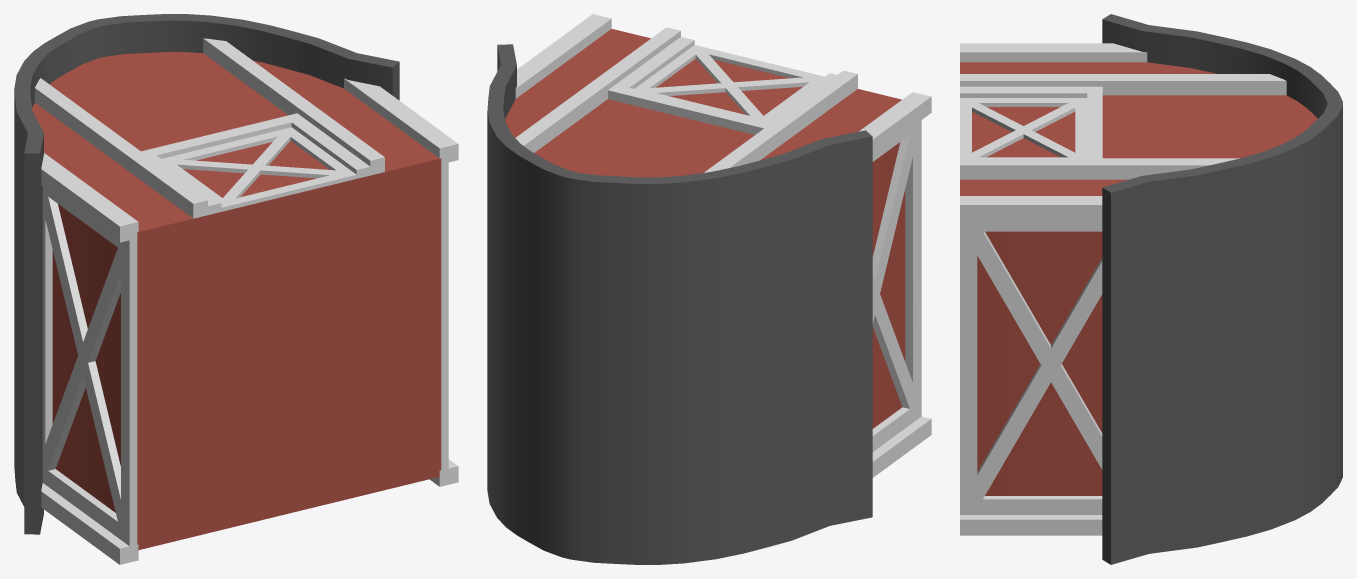
File: Farm.fbx
3 renders of one model, left to right at view 1: azimuth 30°, elevation 25°; view 2: azimuth 150°, elevation 25°; view 3: azimuth 270°, elevation 25°, orthographic. The views are drawn at different scales.
Visible parts, largest first — view 1: Cube, Cube.001, Cube.004, Cube.002, Cube.005, Cube.003; view 2: Cube.001, Cube, Cube.004, Cube.002, Cube.005, Cube.003; view 3: Cube.001, Cube, Cube.004, Cube.005, Cube.003, Cube.002.
Part boxes in pixels (x1,y1,x2,y2): Cube: (32,52,441,549); Cube.001: (14,14,399,534); Cube.004: (42,162,448,546); Cube.002: (141,113,370,214); Cube.005: (35,38,384,218); Cube.003: (41,78,458,564); Cube.001: (487,44,872,564); Cube: (505,29,905,428); Cube.004: (872,120,921,451); Cube.002: (608,37,836,134); Cube.005: (515,27,857,172); Cube.003: (515,14,931,477); Cube.001: (1102,14,1342,564); Cube: (960,62,1317,495); Cube.004: (960,220,1102,514); Cube.005: (960,74,1286,179); Cube.003: (960,43,1147,535); Cube.002: (960,86,1102,158).
Bounding box in the file's own units: 247 × 240 × 223.
